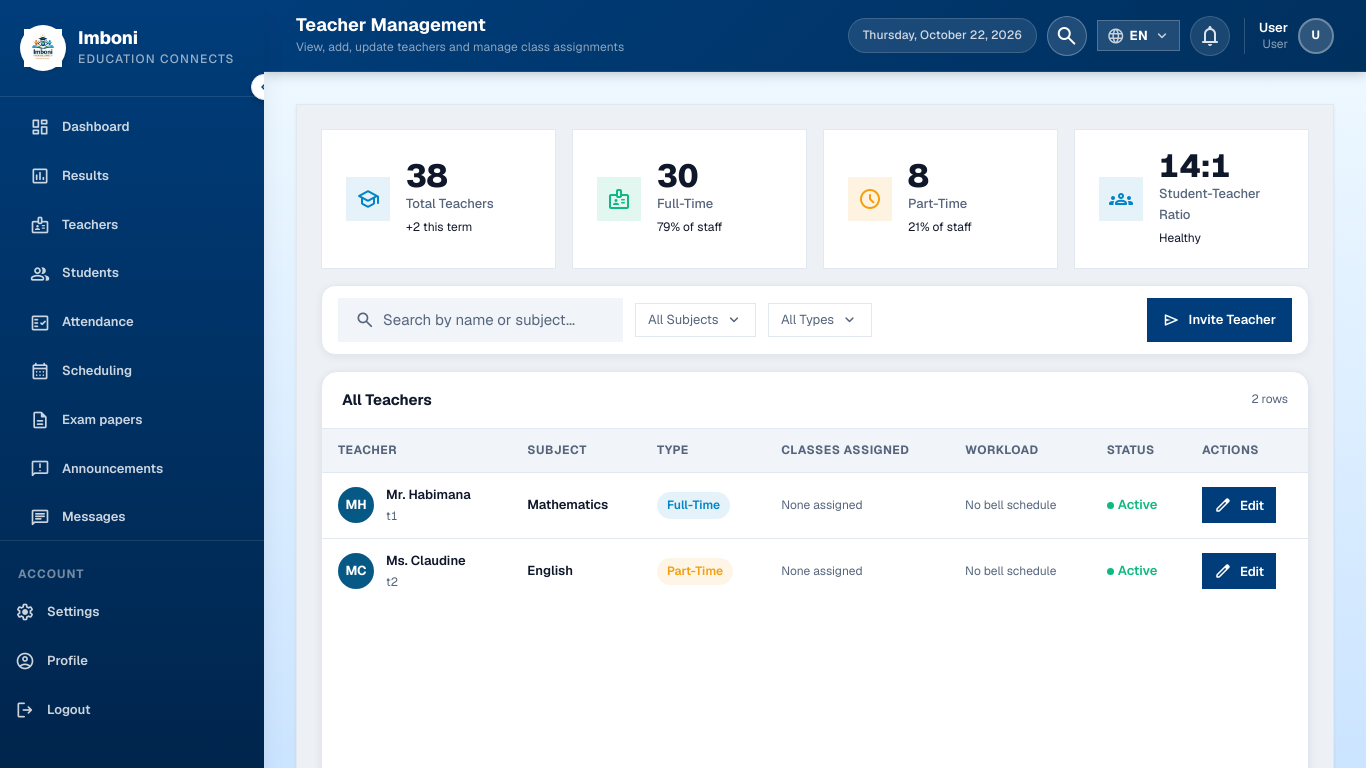
it: DosTeachers › invites a new teacher, validating required fields first
Expected: the text "Mr. Habimana" is shown, top-left (386, 485), bottom-right (471, 506)
Step 1. Click the button "Invite Teacher" → (1219, 320), box top-left (1146, 298), bottom-right (1292, 342)
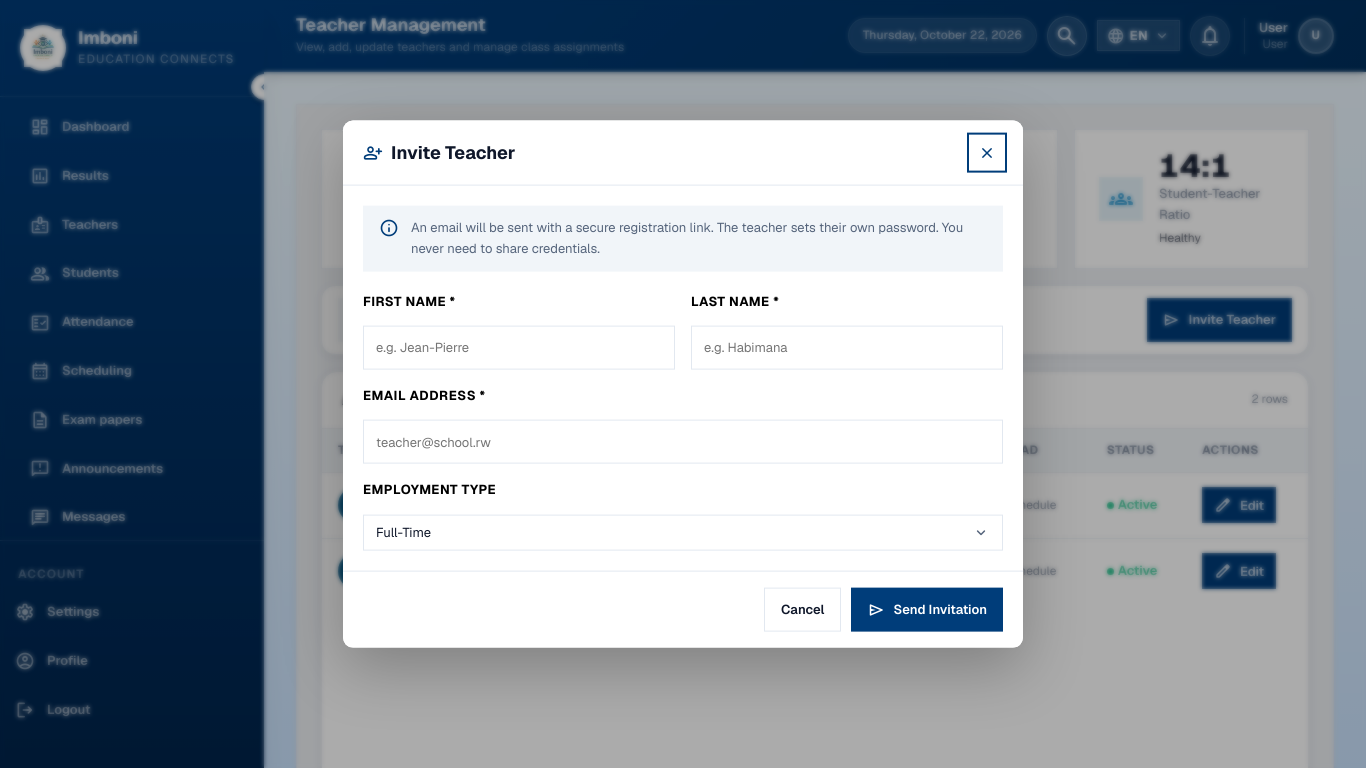
Expected: the button "Send Invitation" is disabled, top-left (851, 587), bottom-right (1003, 631)
Step 2. Type "New" into the field with placeholder "e.g. Jean-Pierre" → (519, 348), box top-left (363, 326), bottom-right (675, 370)
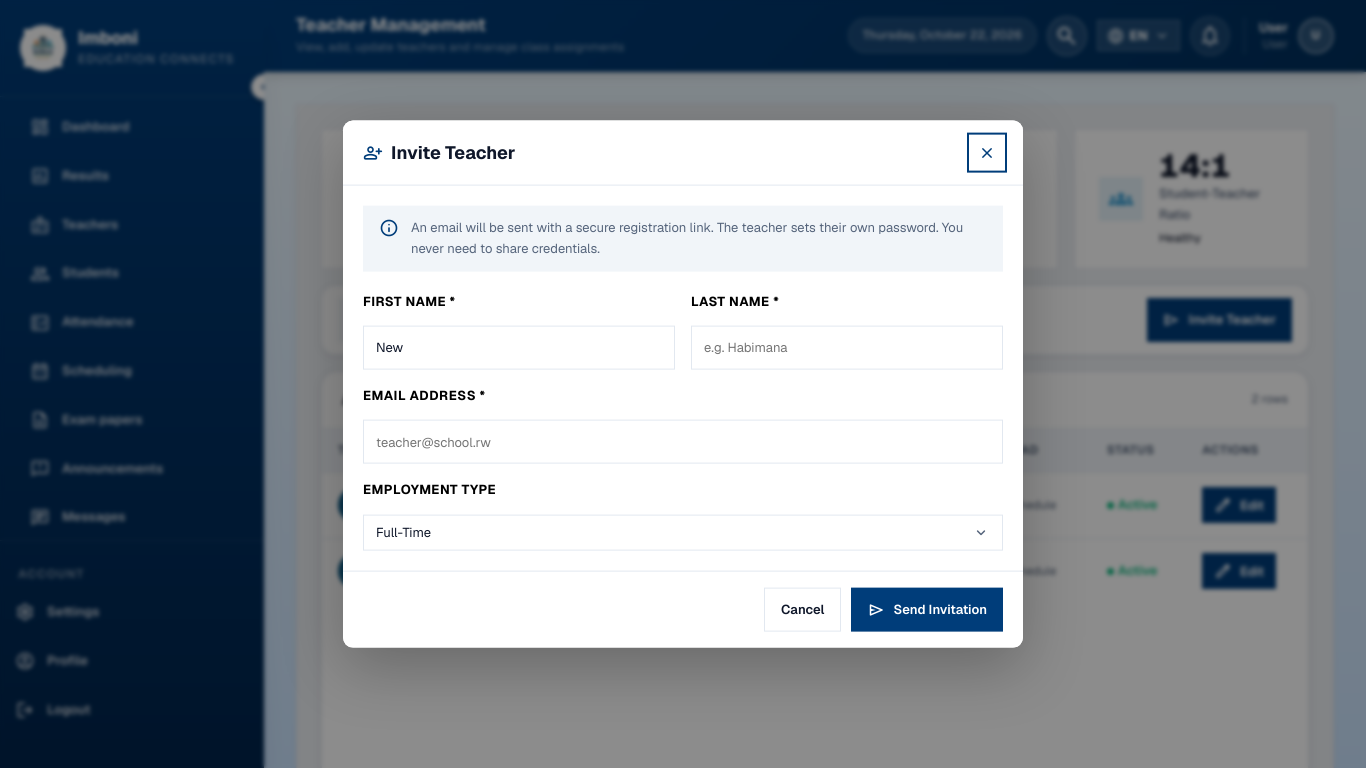
Step 3. Type "Teacher" into the field with placeholder "e.g. Habimana" → (847, 348), box top-left (691, 326), bottom-right (1003, 370)
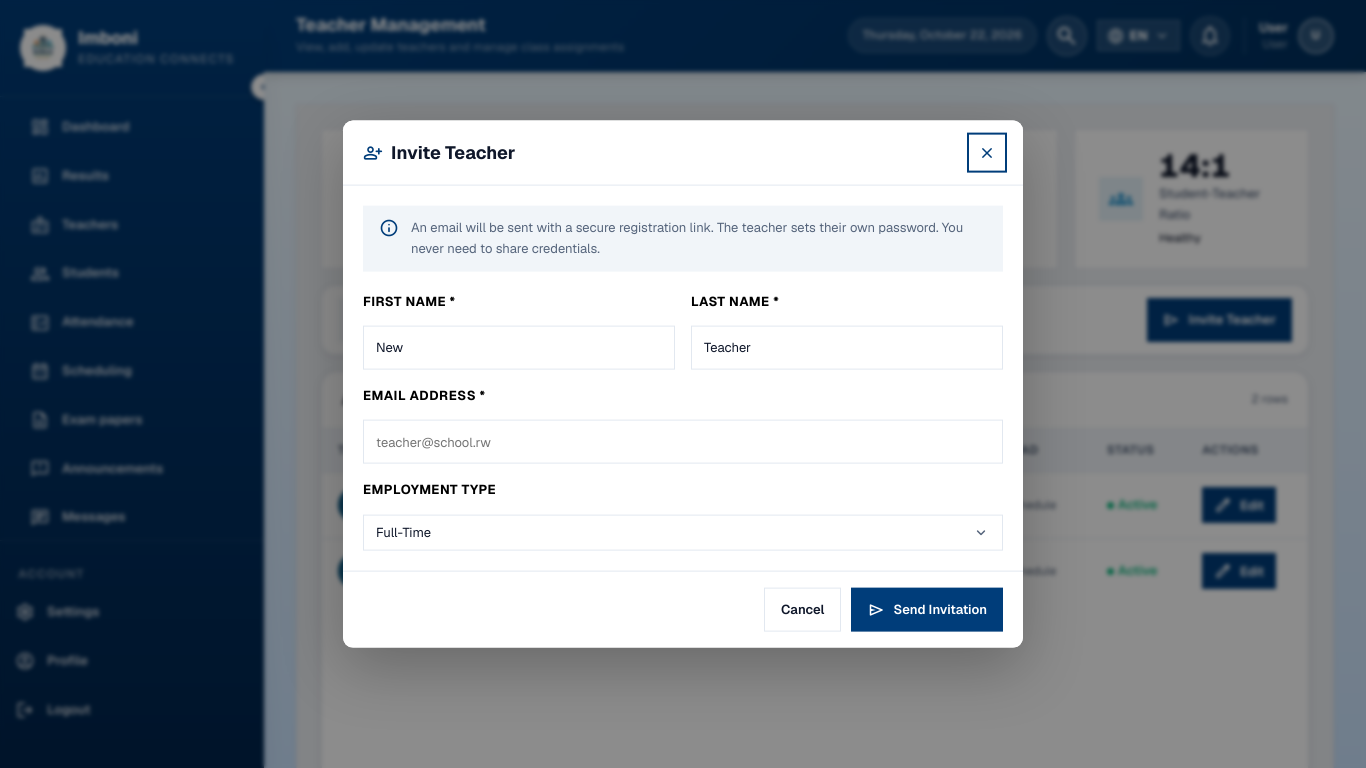
Step 4. Type "new@imboni.test" into the field with placeholder "teacher@school.rw" → (683, 442), box top-left (363, 420), bottom-right (1003, 464)
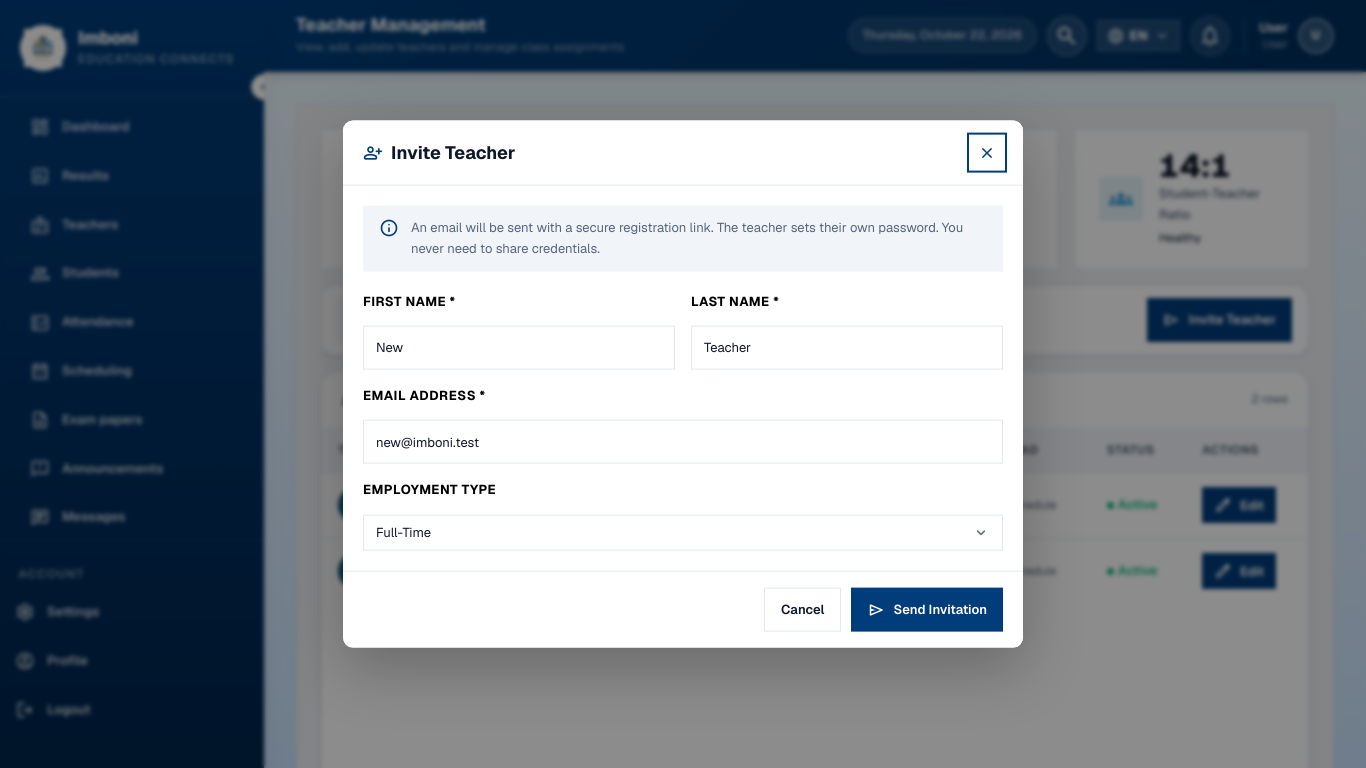
Step 5. Click the button "Send Invitation" → (927, 609), box top-left (851, 587), bottom-right (1003, 631)
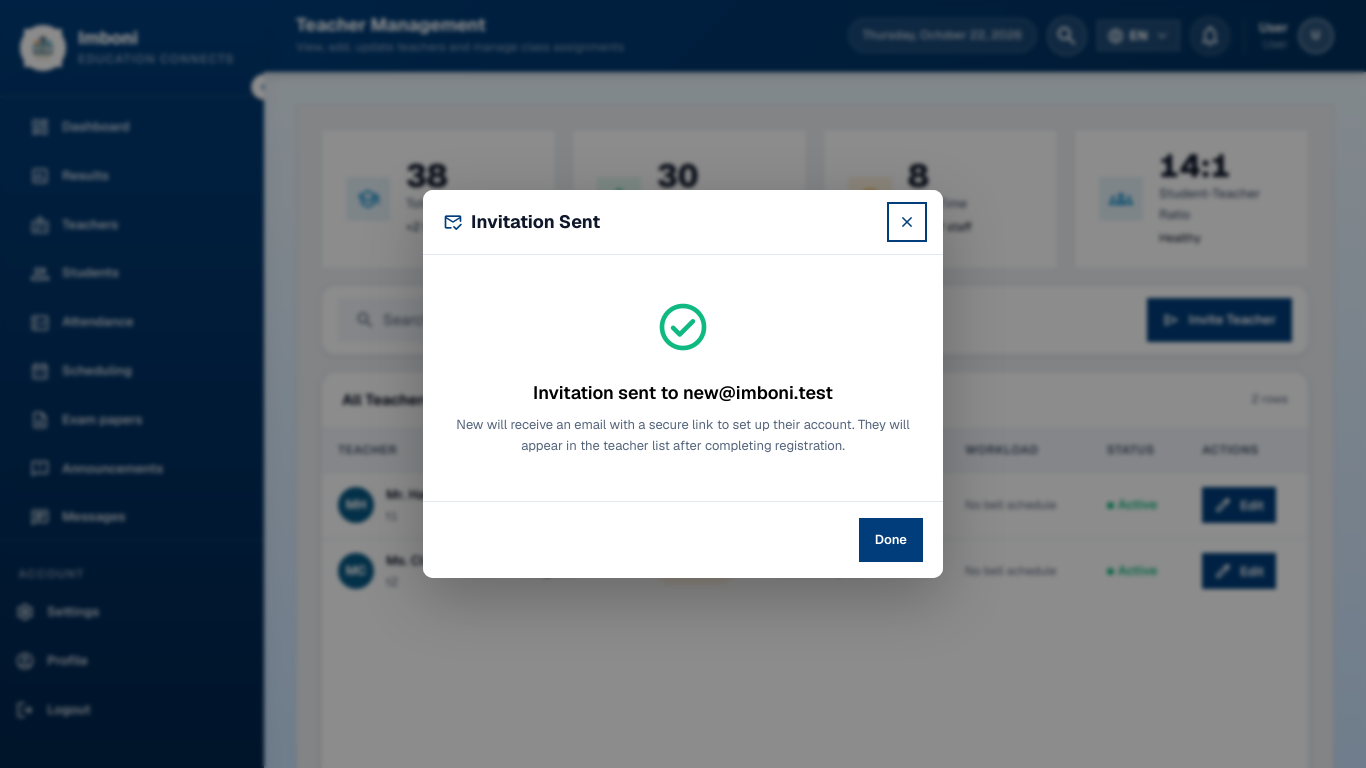
Expected: the text "Invitation sent to new@imboni.test" is shown, top-left (533, 381), bottom-right (833, 404)
